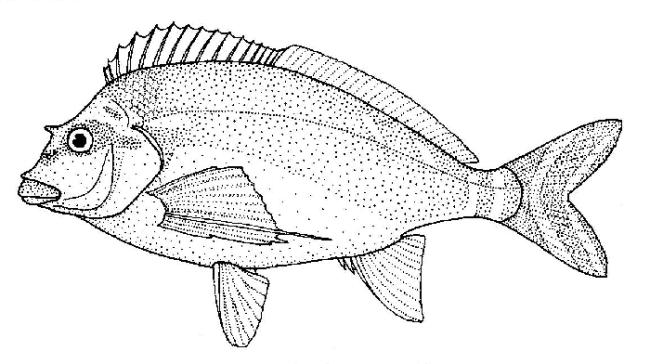fish: (19, 23, 624, 349)
